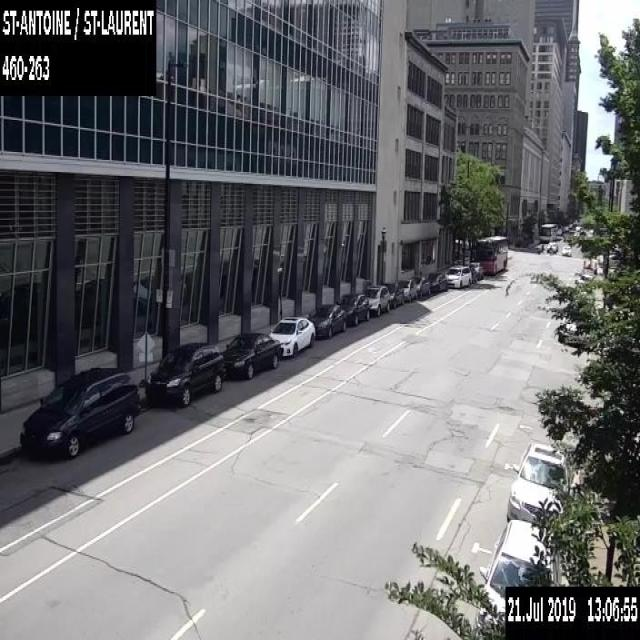bus: (475, 235, 507, 274), (539, 223, 557, 241)
construction: (134, 329, 156, 387), (581, 258, 597, 274)
pedestrian: (548, 244, 552, 255)
vehicle: (17, 364, 141, 460), (473, 517, 556, 630), (506, 438, 574, 522), (144, 341, 223, 406), (221, 331, 280, 379), (268, 315, 314, 357), (306, 302, 346, 336), (340, 292, 369, 325), (558, 314, 588, 344), (364, 284, 390, 316), (444, 264, 471, 287), (382, 281, 403, 308), (396, 278, 416, 301), (410, 275, 430, 297), (427, 271, 447, 292), (468, 261, 483, 279), (560, 244, 571, 256), (546, 241, 557, 252)
